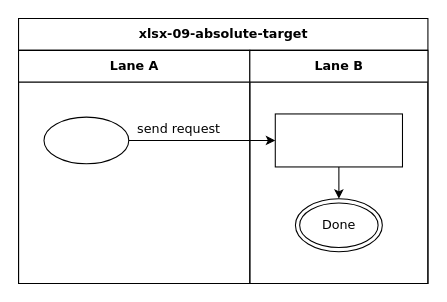
Some shapes in this 447 by 302 pixel diagram are drawn without their labels. The centre of each missing label's shape, as x and y in pixels:
Process: pixel 338 140
Start: pixel 86 140
